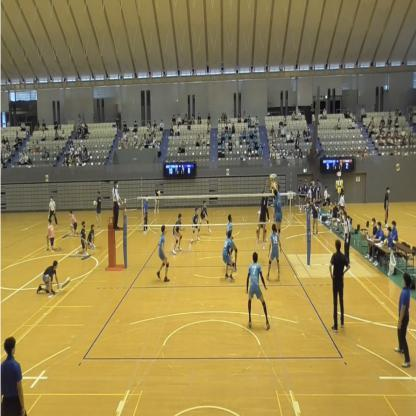spike: (264, 177, 284, 246)
